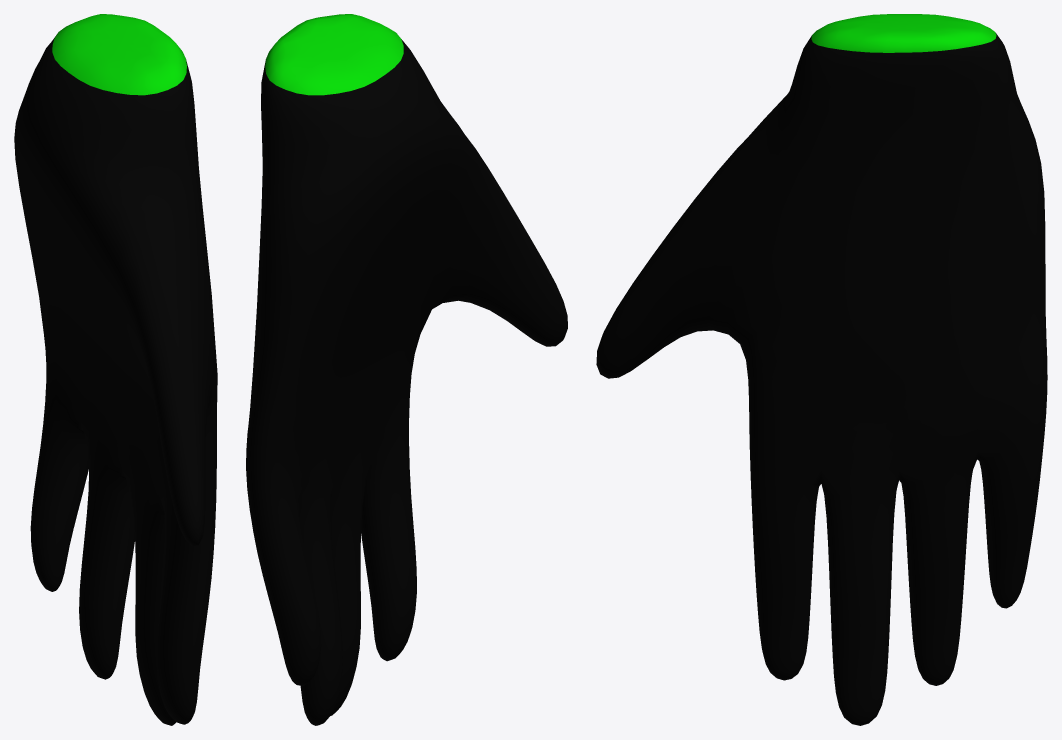
The model's file is Hand.fbx.
3 views of the same model, side by side, from view 1: azimuth 30°, elevation 25°; view 2: azimuth 150°, elevation 25°; view 3: azimuth 270°, elevation 25° (orthographic). The views are drawn at different scales.
Parts seen in each view (by area): view 1: Hand; view 2: Hand; view 3: Hand.
Boxes of the visible parts, <box> form: Hand: <box>14,14,217,725</box>; Hand: <box>246,14,567,725</box>; Hand: <box>596,14,1047,725</box>.
Bounding box in the file's own units: 0.1891 × 0.9269 × 0.5461.
